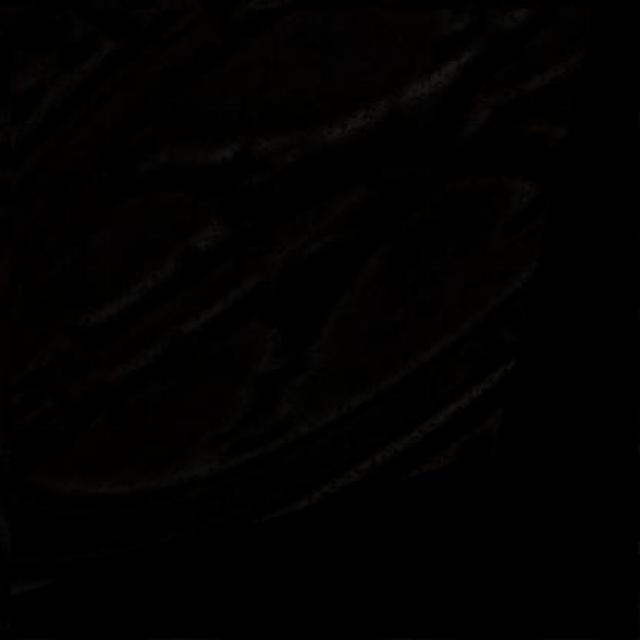Manhole: (11, 9, 638, 638)
